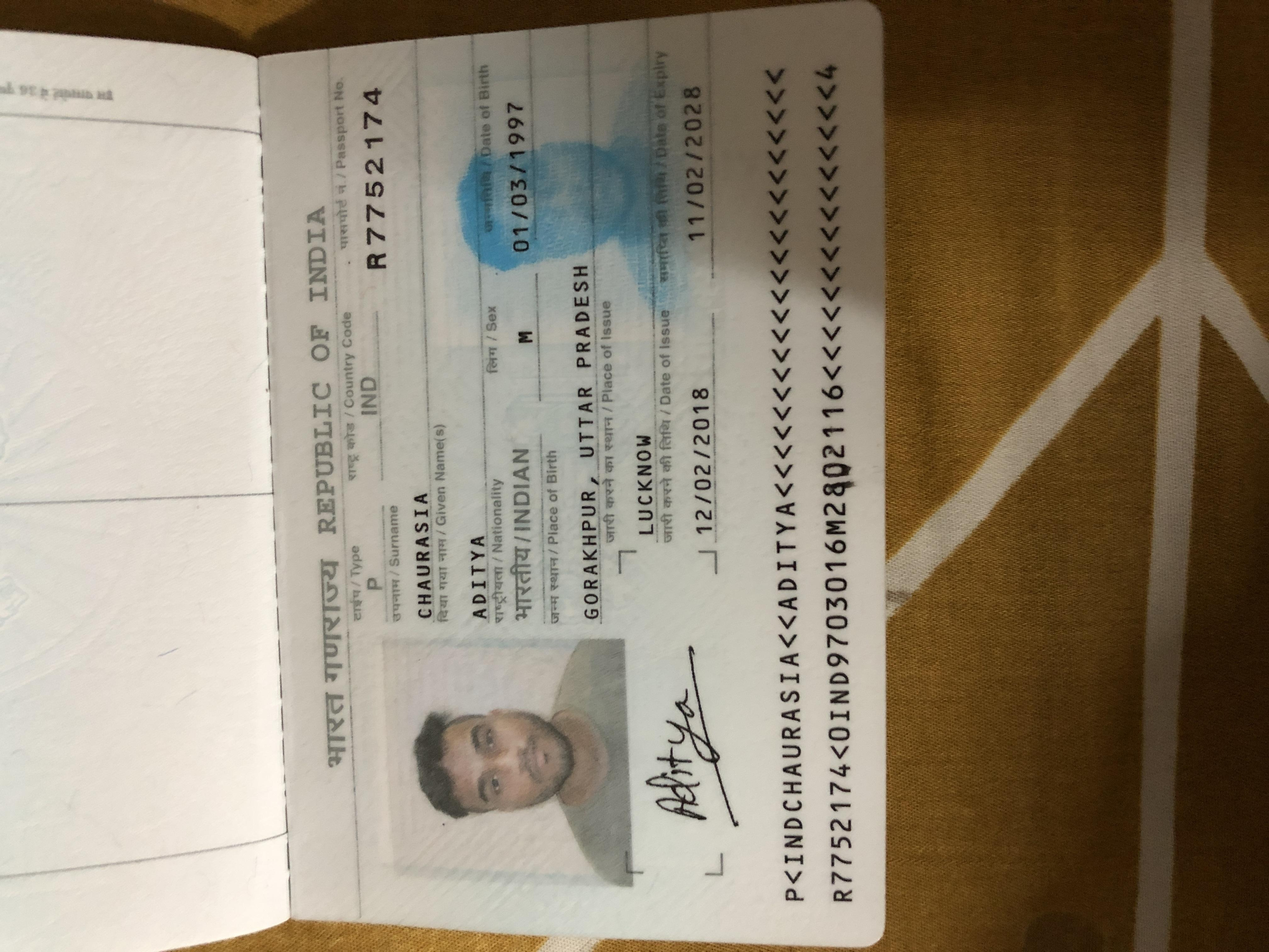DOB: (922, 375, 1163, 403)
Surname: (434, 306, 627, 327)
country_code: (702, 265, 782, 288)
date_of_expiry: (926, 503, 1171, 536)
date_of_issue: (536, 505, 776, 543)
details: (49, 574, 1199, 644)
name: (436, 341, 573, 370)
nationality: (428, 379, 694, 404)
passport_no: (898, 267, 1167, 301)
photo: (103, 293, 407, 470)
place_of_birth: (443, 425, 927, 451)
place_of_issue: (547, 473, 704, 494)
sex: (790, 380, 846, 408)
sign: (158, 482, 374, 540)
type: (464, 272, 511, 292)
